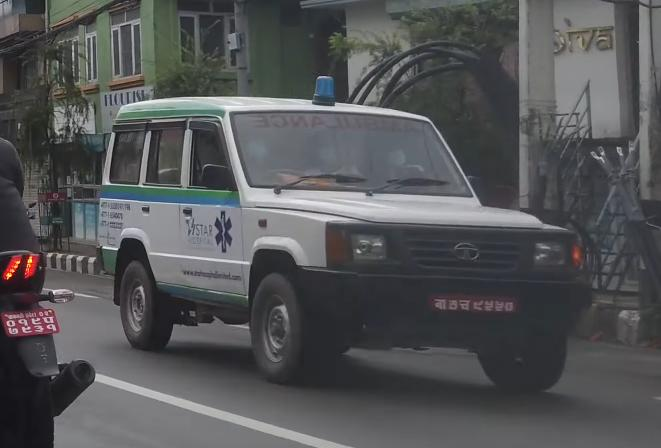ambulance: (81, 68, 593, 411)
